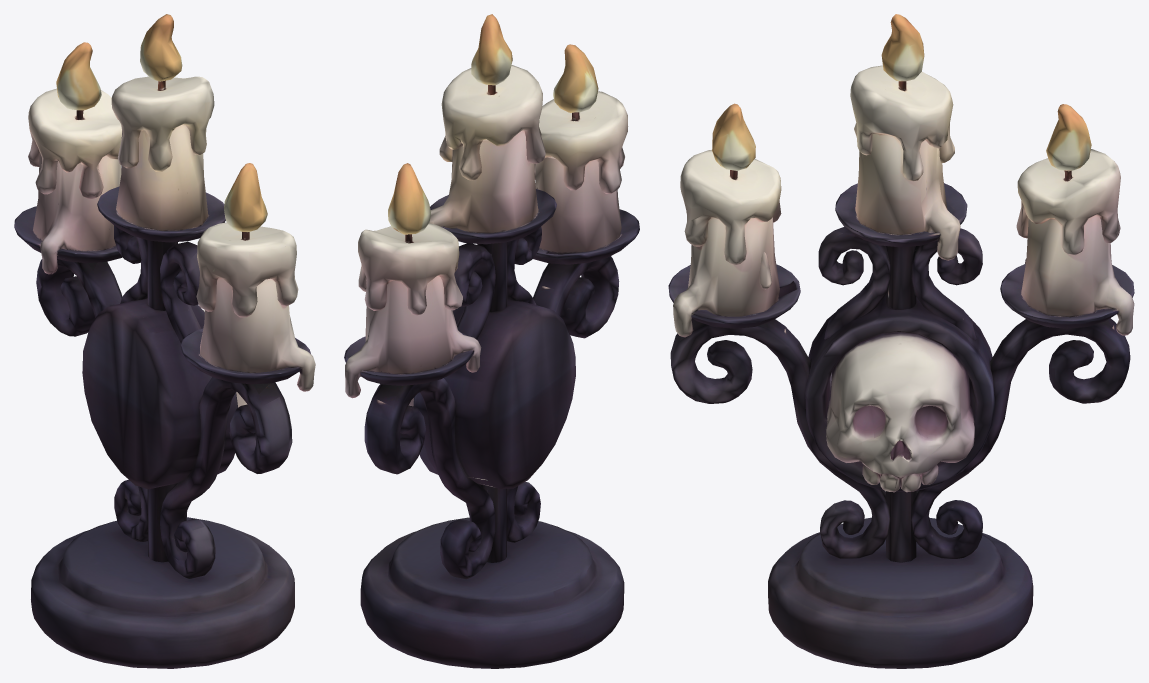
The model's file is H5_SkullCandelabra_LOD0.fbx.
The picture shows the model from 3 angles, left to right: view 1: azimuth 30°, elevation 25°; view 2: azimuth 150°, elevation 25°; view 3: azimuth 270°, elevation 25°; orthographic projection.
Parts seen in each view (by area): view 1: PART_Body.001, PART_Flame_17.001, PART_Flame_16.001, PART_Flame_18.001; view 2: PART_Body.001, PART_Flame_16.001, PART_Flame_17.001, PART_Flame_18.001; view 3: PART_Body.001, PART_Flame_17.001, PART_Flame_16.001, PART_Flame_18.001.
Boxes of the visible parts, bbox=[...] form: PART_Body.001: bbox=[14, 76, 315, 668]; PART_Flame_17.001: bbox=[56, 42, 101, 110]; PART_Flame_16.001: bbox=[224, 163, 267, 231]; PART_Flame_18.001: bbox=[140, 14, 182, 81]; PART_Body.001: bbox=[344, 65, 639, 668]; PART_Flame_16.001: bbox=[553, 44, 598, 112]; PART_Flame_17.001: bbox=[388, 163, 430, 234]; PART_Flame_18.001: bbox=[471, 14, 512, 85]; PART_Body.001: bbox=[668, 65, 1134, 668]; PART_Flame_17.001: bbox=[1046, 104, 1091, 171]; PART_Flame_16.001: bbox=[712, 103, 755, 170]; PART_Flame_18.001: bbox=[881, 14, 924, 81].
Bounding box in the file's own units: 0.1506 × 0.3802 × 0.2663.
4 materials, 4 textured.
